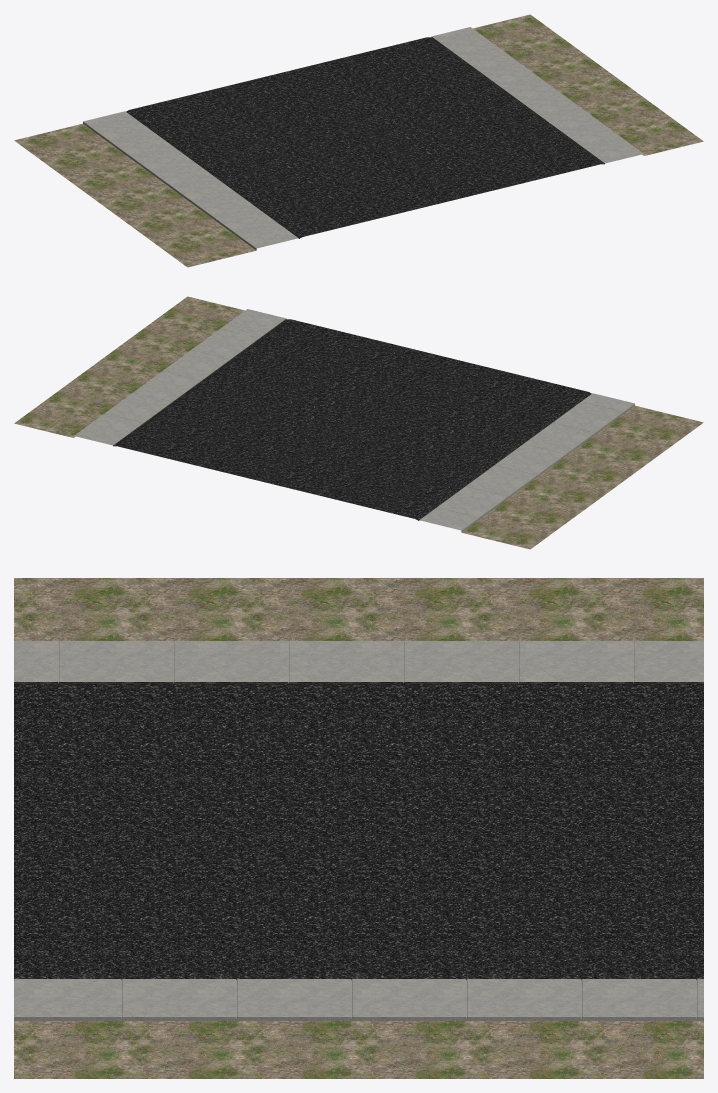
The picture shows the model from 3 angles, top to bottom: view 1: azimuth 30°, elevation 25°; view 2: azimuth 150°, elevation 25°; view 3: azimuth 270°, elevation 25°; orthographic projection. The views are drawn at different scales.
Visible parts, largest first — view 1: Mesh1_Asphalt_0, Mesh1_Grass_0, Mesh1_Concrete_0; view 2: Mesh1_Asphalt_0, Mesh1_Grass_0, Mesh1_Concrete_0; view 3: Mesh1_Asphalt_0, Mesh1_Grass_0, Mesh1_Concrete_0, Mesh1_DarkGrass_0.
Boxes of the visible parts, x1=… form: Mesh1_Asphalt_0: x1=126, y1=37, x2=603, y2=238; Mesh1_Grass_0: x1=14, y1=14, x2=703, y2=267; Mesh1_Concrete_0: x1=83, y1=27, x2=643, y2=250; Mesh1_Asphalt_0: x1=114, y1=319, x2=591, y2=520; Mesh1_Grass_0: x1=14, y1=296, x2=703, y2=549; Mesh1_Concrete_0: x1=74, y1=309, x2=634, y2=532; Mesh1_Asphalt_0: x1=14, y1=683, x2=703, y2=979; Mesh1_Grass_0: x1=14, y1=578, x2=703, y2=1078; Mesh1_Concrete_0: x1=14, y1=641, x2=703, y2=1020; Mesh1_DarkGrass_0: x1=14, y1=682, x2=703, y2=980.
Bounding box in the file's own units: 1042 × 4.61 × 607.
5 materials, 4 textured.
